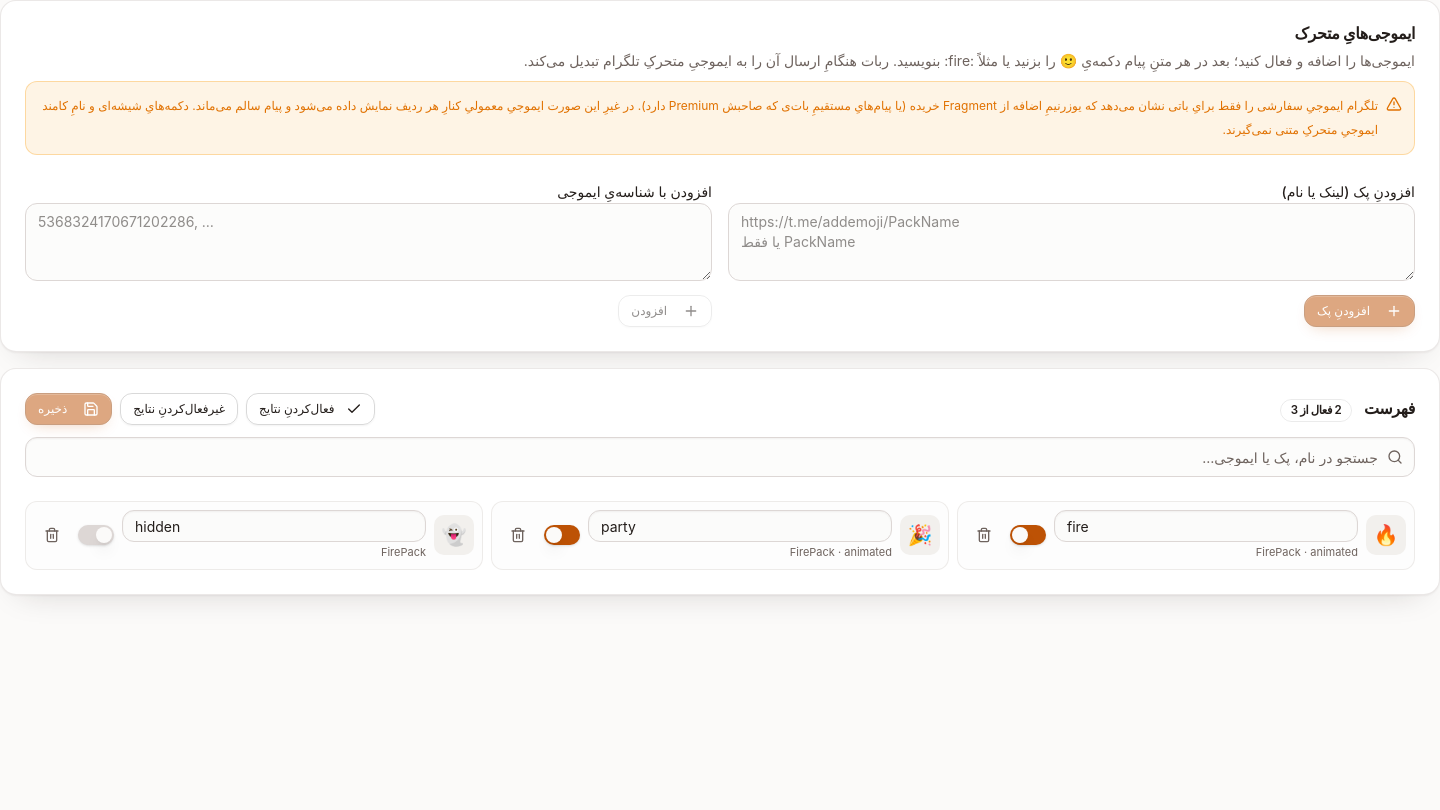
Scenario: CustomEmojiManager › lists the catalog and imports a pack through the API
The width and height of the screenshot is (1440, 810).
Expected: the text ":fire:" is shown, [944,52,974,69]
In the text box with placeholder "https://t.me/addemoji/PackName یا فقط PackName": (1072,242) [728,203,1415,281], type "NewPack"
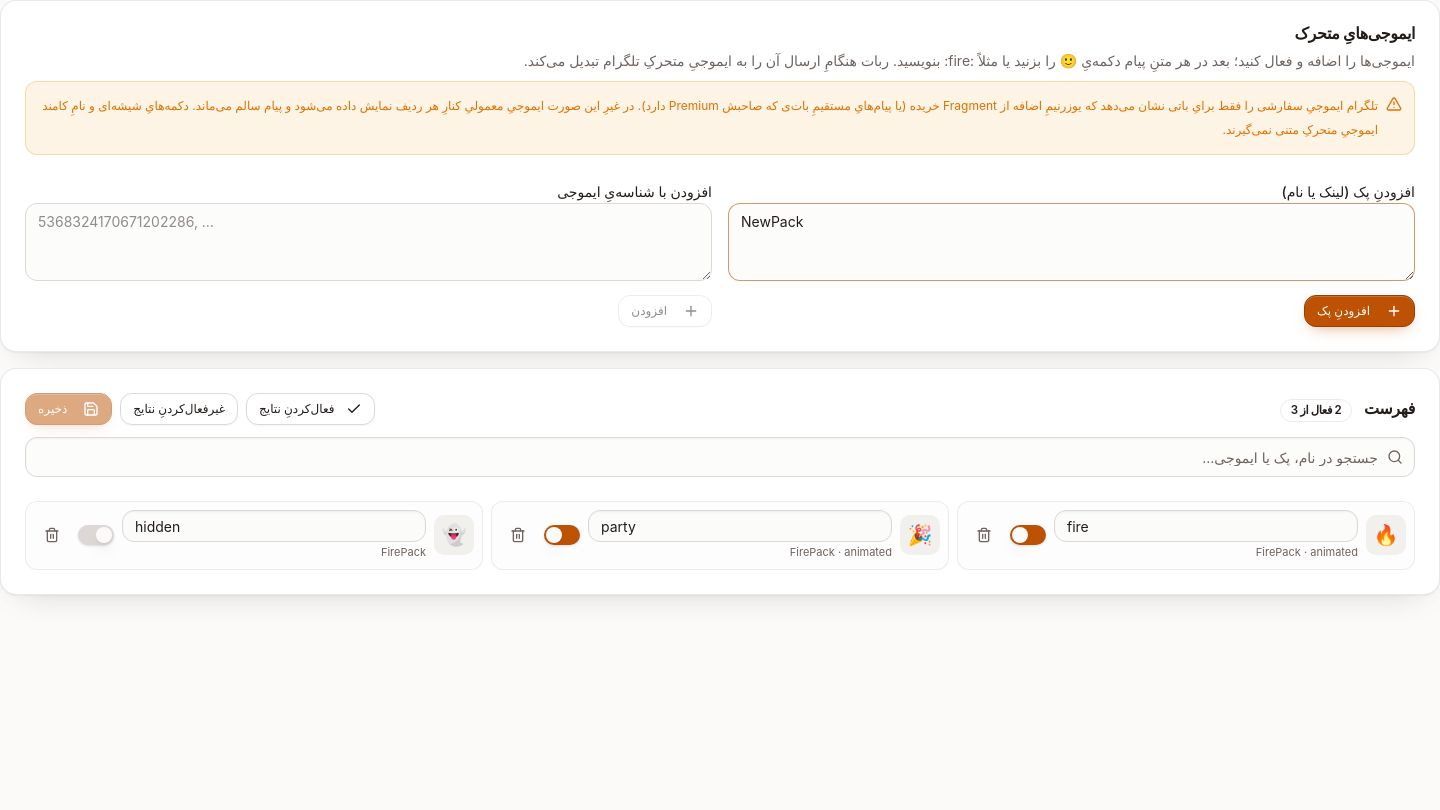
Click the button "افزودنِ پک": (1360,311) [1304,295,1415,327]
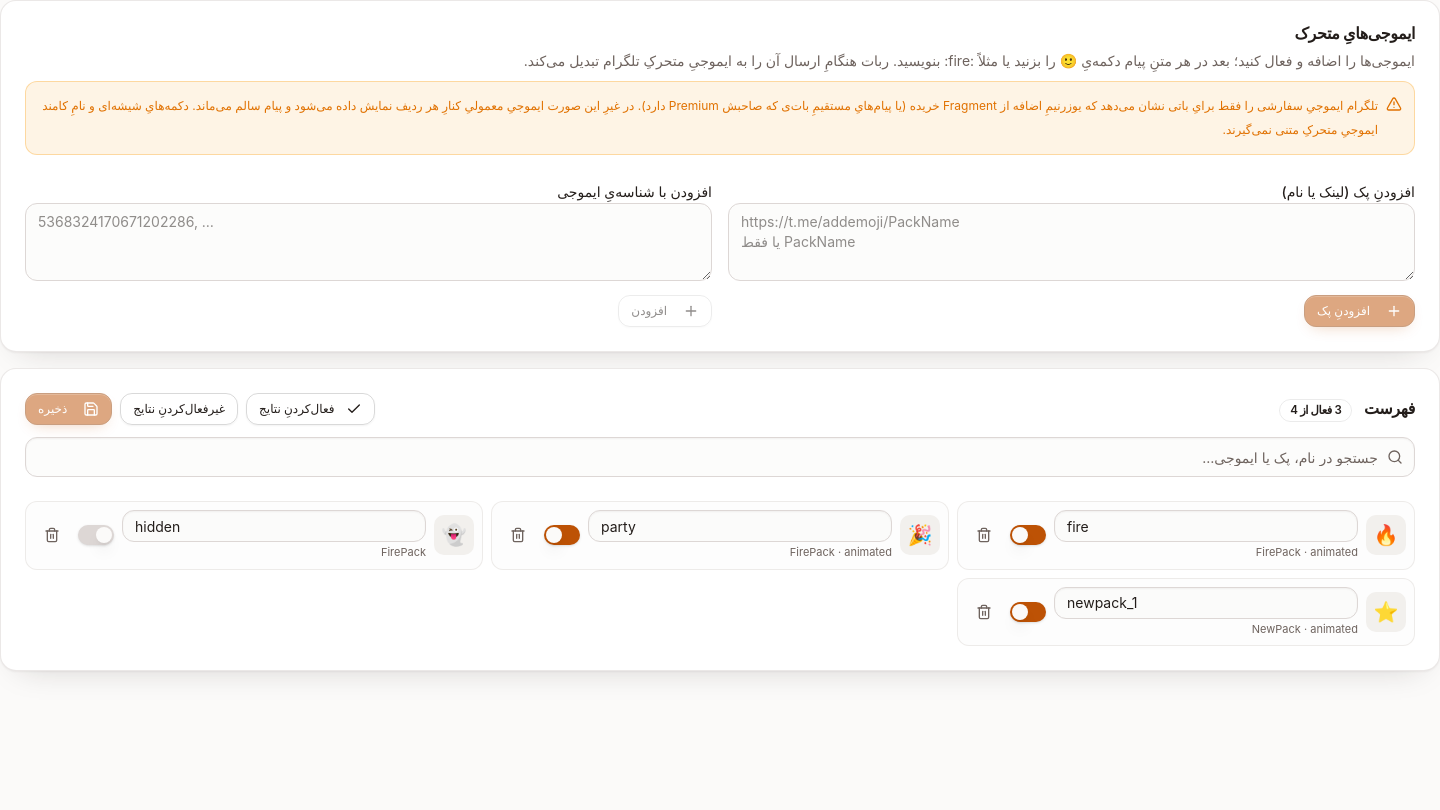
Now the field showing "newpack_1" is shown, box [1054,586,1358,618]
